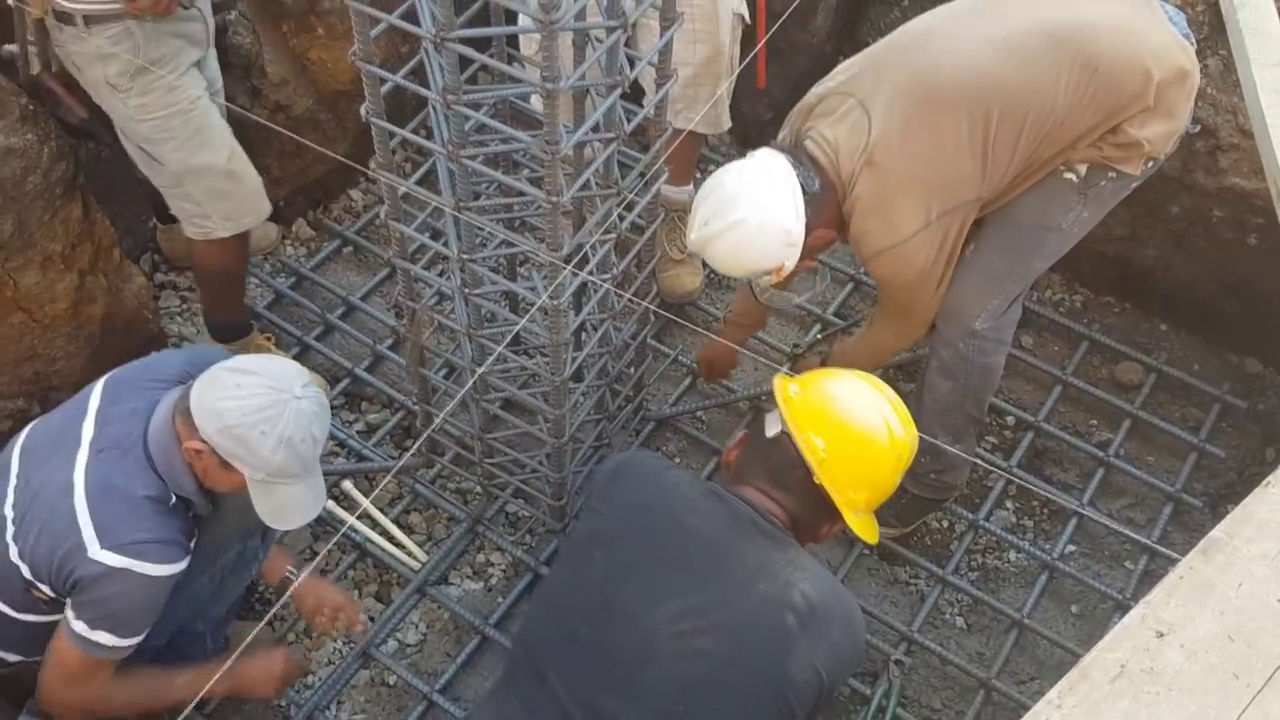helmet: (758, 360, 907, 542), (686, 144, 812, 293)
helmet-off: (162, 343, 326, 537)
helmet-on: (705, 367, 910, 546), (690, 129, 859, 298)
person: (685, 8, 1195, 522), (469, 357, 925, 719), (0, 338, 365, 718), (4, 5, 305, 329), (514, 3, 741, 301)
